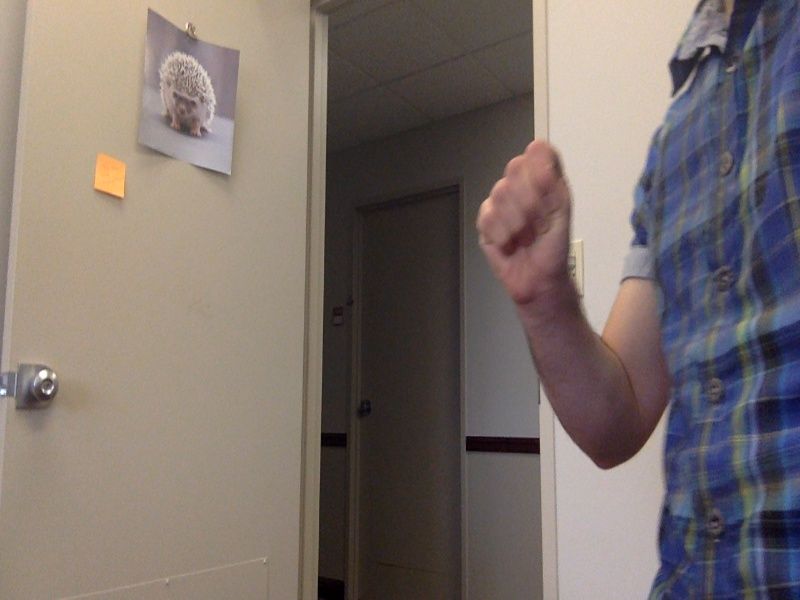0-hand: (472, 140, 580, 318)
